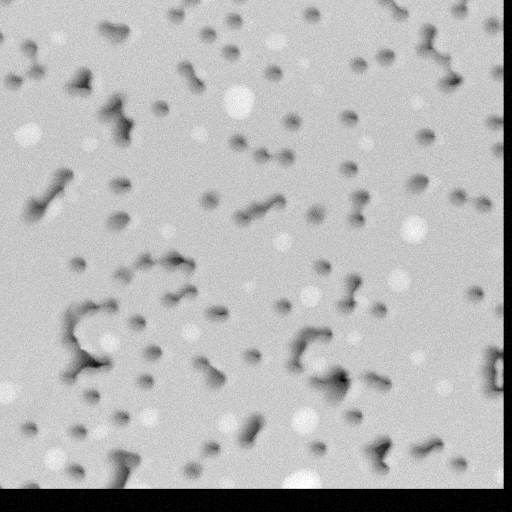Hole: (409, 15, 474, 88), (224, 130, 301, 172), (198, 0, 250, 58), (136, 248, 209, 277), (230, 189, 289, 224), (357, 432, 400, 480), (167, 53, 212, 97), (339, 185, 376, 238), (97, 92, 134, 143), (444, 185, 496, 217), (57, 295, 89, 347), (188, 349, 228, 390), (478, 336, 502, 402), (12, 184, 49, 226), (98, 444, 134, 487), (58, 293, 121, 316), (332, 269, 364, 314), (53, 346, 91, 382), (16, 33, 44, 81), (89, 16, 135, 44), (360, 359, 396, 393), (281, 325, 334, 348), (292, 0, 330, 32), (238, 412, 270, 450), (149, 0, 203, 22), (309, 370, 350, 398), (398, 165, 434, 196), (411, 431, 445, 463), (42, 161, 69, 201), (369, 0, 411, 24), (205, 298, 234, 332), (282, 333, 307, 372), (298, 195, 328, 227), (64, 63, 94, 95), (191, 435, 225, 463), (159, 284, 198, 308), (13, 412, 43, 440), (56, 419, 89, 443), (334, 101, 361, 129), (461, 277, 487, 306), (191, 184, 220, 209), (415, 124, 442, 150), (149, 96, 174, 124), (141, 337, 165, 365), (333, 156, 362, 179), (108, 255, 131, 284), (182, 454, 204, 484), (66, 248, 91, 274), (342, 401, 369, 425), (237, 341, 264, 365), (448, 450, 473, 475), (277, 107, 302, 132), (347, 48, 369, 76), (445, 0, 477, 19), (371, 43, 396, 67), (274, 293, 298, 318), (110, 172, 135, 196), (66, 462, 94, 483), (80, 351, 112, 369), (109, 404, 134, 427), (11, 474, 55, 487), (105, 206, 130, 228), (481, 106, 502, 132), (309, 435, 330, 461), (125, 311, 150, 332), (311, 253, 330, 280), (79, 387, 102, 409), (367, 300, 389, 323), (2, 68, 25, 90), (131, 367, 156, 387), (265, 58, 286, 81), (483, 12, 502, 37), (485, 53, 502, 80), (487, 137, 502, 160), (0, 24, 11, 51), (494, 297, 502, 321), (0, 0, 22, 8)
Particle: (216, 77, 259, 121), (284, 400, 325, 442), (6, 113, 45, 151), (397, 210, 436, 245), (270, 467, 330, 487), (382, 263, 413, 295), (294, 281, 326, 308), (261, 25, 291, 53), (95, 325, 122, 355), (184, 118, 212, 146), (42, 443, 69, 471), (43, 26, 75, 49), (135, 402, 162, 429), (215, 407, 239, 437), (0, 377, 26, 403), (405, 341, 430, 367), (431, 375, 457, 400), (403, 86, 429, 111), (268, 228, 292, 253), (292, 51, 318, 74), (179, 317, 200, 344), (155, 216, 178, 240), (305, 77, 328, 99), (344, 326, 366, 349), (78, 132, 98, 154), (354, 133, 375, 153), (90, 419, 109, 438), (311, 351, 328, 370), (241, 277, 256, 297), (216, 475, 237, 487), (492, 462, 502, 483), (134, 477, 154, 487)
Smear: (69, 185, 99, 201), (33, 339, 56, 354)
